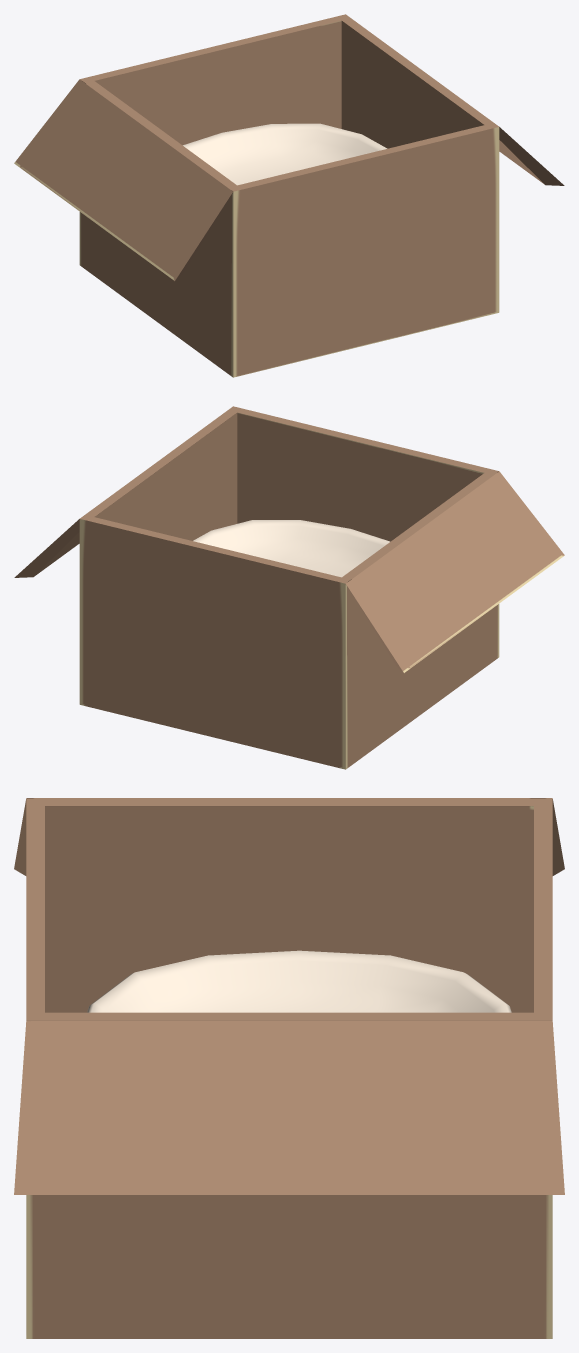
Rendered from Cardboard box 1.glb.
3 renders of one model, top to bottom at view 1: azimuth 30°, elevation 25°; view 2: azimuth 150°, elevation 25°; view 3: azimuth 270°, elevation 25°, orthographic. The views are drawn at different scales.
Visible parts, largest first — view 1: Cube, Cube.010; view 2: Cube, Cube.010; view 3: Cube, Cube.010.
Boxes of the visible parts, bbox=[...] form: Cube: bbox=[14, 14, 564, 377]; Cube.010: bbox=[183, 123, 387, 185]; Cube: bbox=[14, 406, 564, 769]; Cube.010: bbox=[193, 520, 389, 577]; Cube: bbox=[14, 798, 564, 1338]; Cube.010: bbox=[87, 950, 511, 1012].
Bounding box in the file's own units: 0.3191 × 0.1454 × 0.228.
2 materials, 1 textured.
